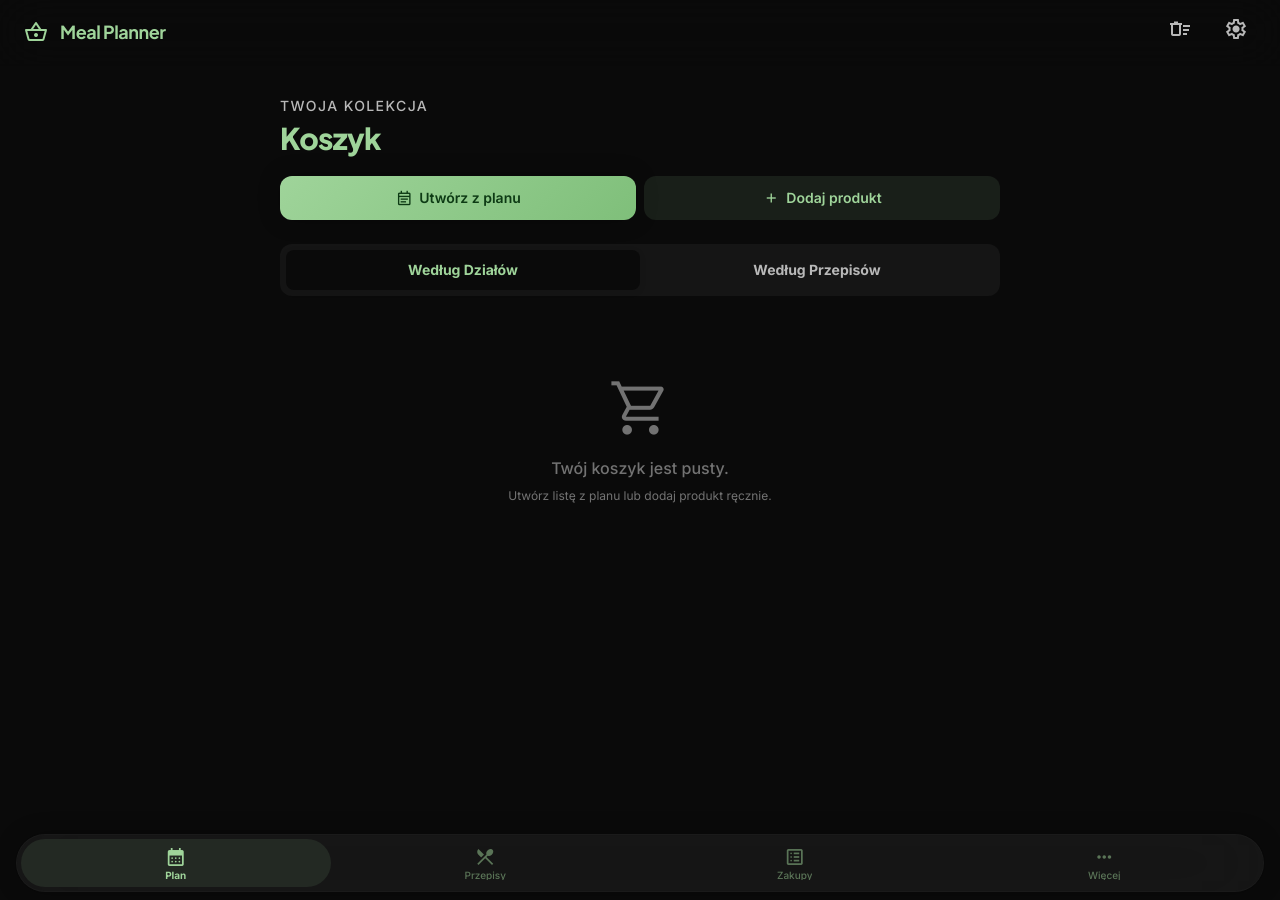
Test: ShoppingList create from plan › keeps the added ingredients and closes the picker when reloading the list fails
Click the button "Utwórz z planu".
click(458, 198)  # box [280, 176, 636, 220]
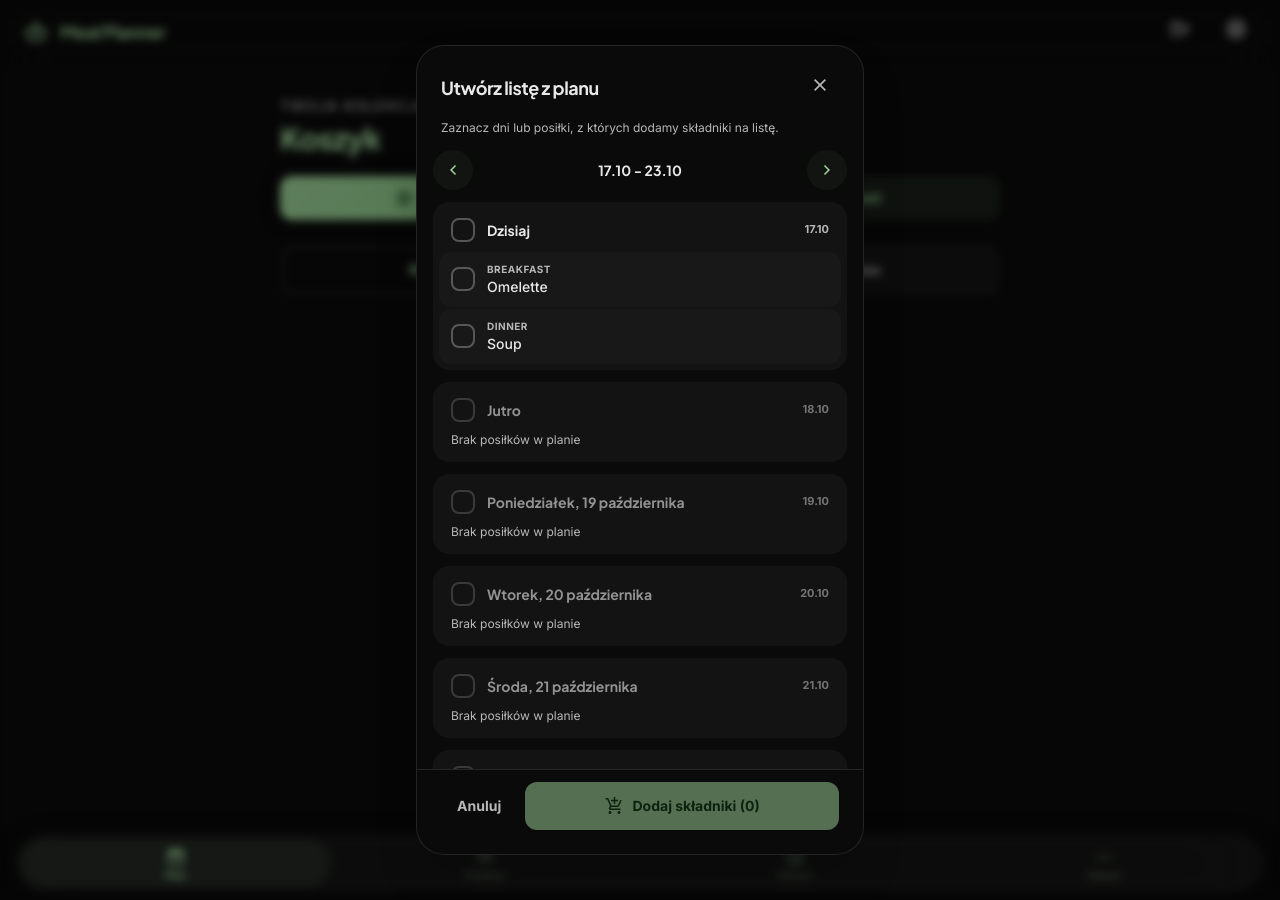
Click the checkbox labelled "Dzisiaj 17.10".
click(508, 230)  # box [439, 208, 841, 252]
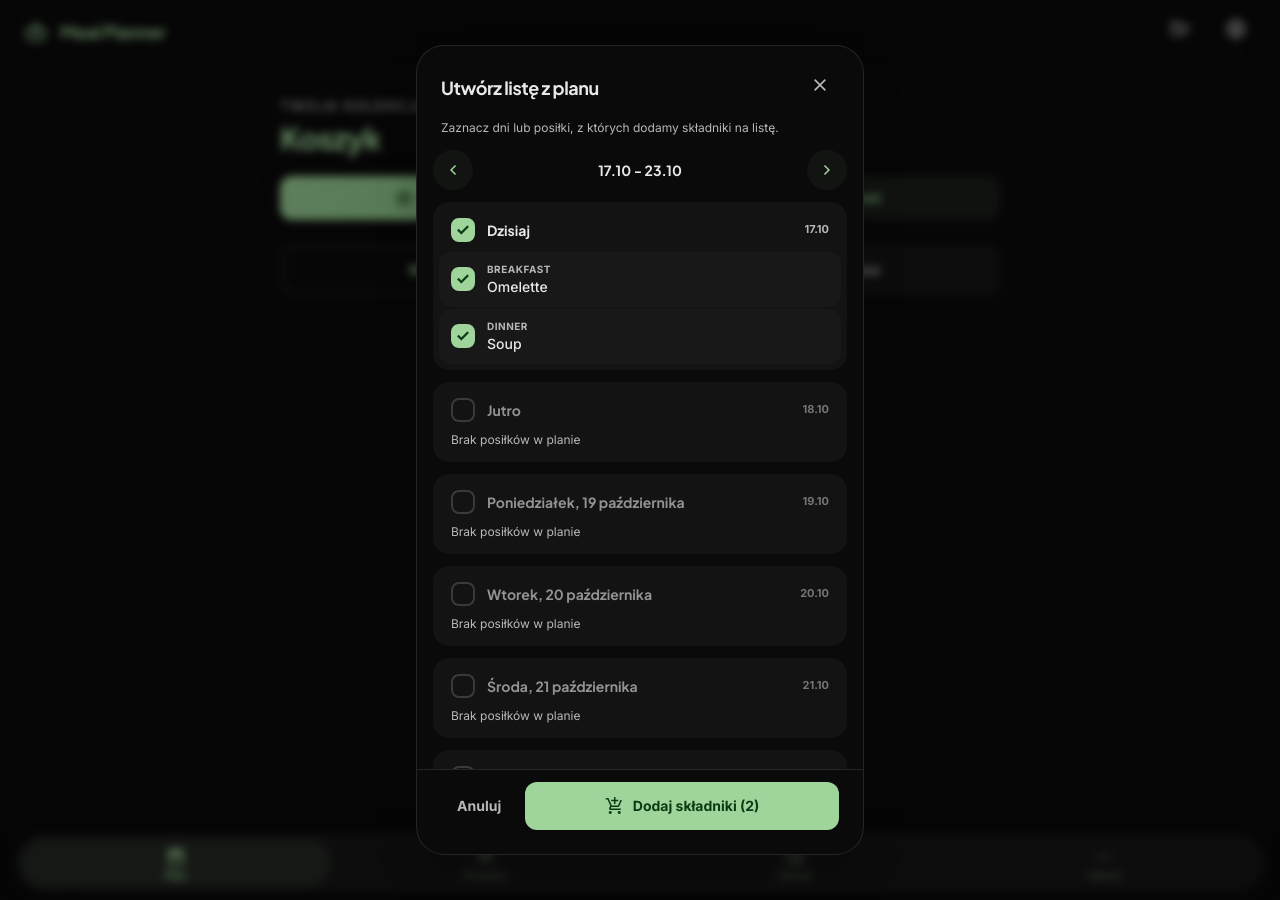
Click the button "Dodaj składniki (2)".
click(682, 806)  # box [525, 782, 839, 830]
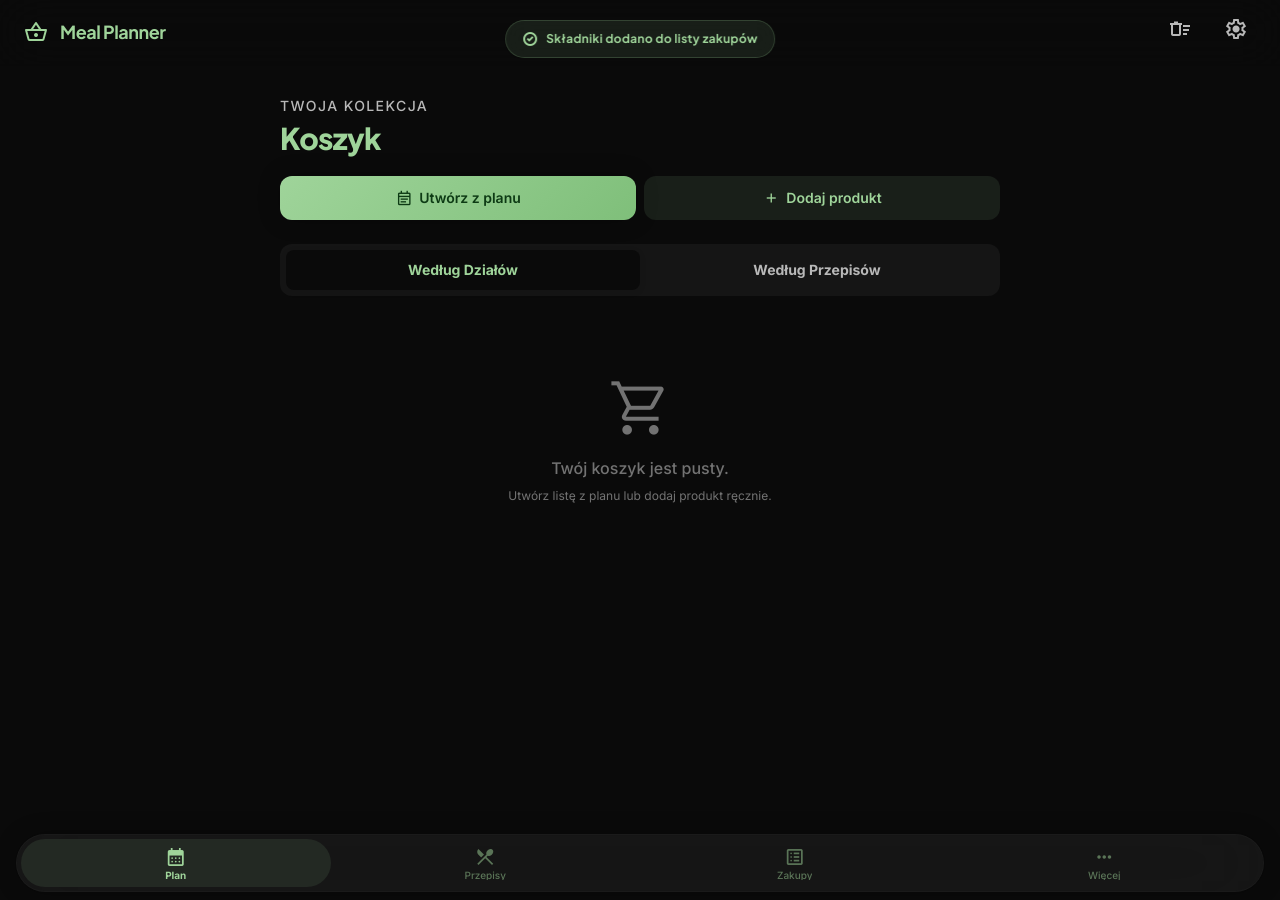
Now the message "Składniki dodano do listy zakupów" is shown, box [505, 20, 775, 58]
Now the dialog is gone
